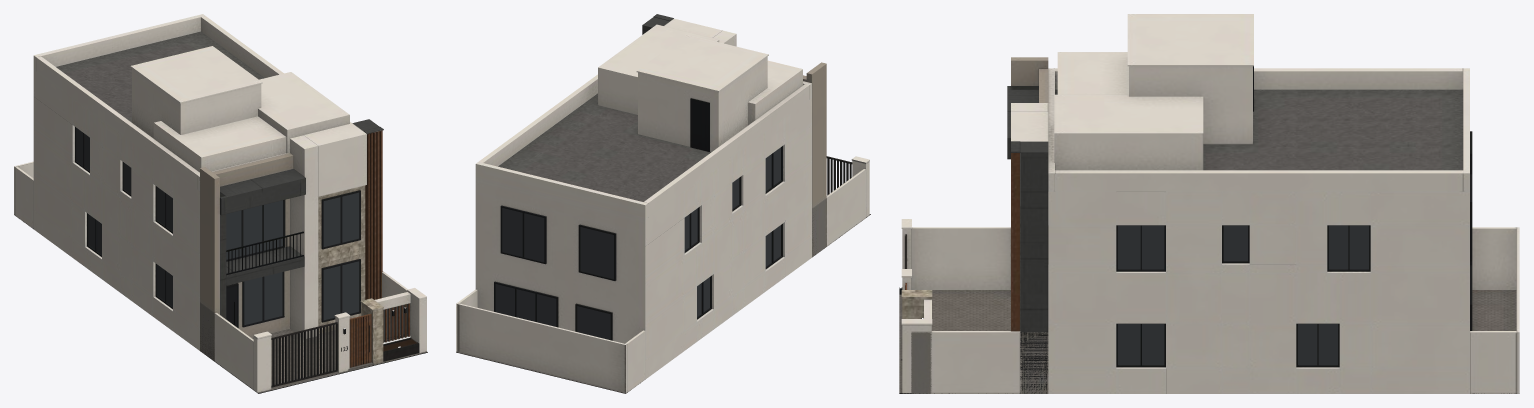
Rendered from house_A.glb.
3 renders of one model, left to right at view 1: azimuth 30°, elevation 25°; view 2: azimuth 150°, elevation 25°; view 3: azimuth 270°, elevation 25°, orthographic. The views are drawn at different scales.
Visible parts, largest first — view 1: body, glass; view 2: body, glass; view 3: body, glass.
Boxes of the visible parts, left/top/right/bottom form: body: left=14, top=14, right=427, bottom=393; glass: left=76, top=128, right=359, bottom=324; body: left=456, top=14, right=870, bottom=393; glass: left=495, top=147, right=780, bottom=339; body: left=899, top=14, right=1519, bottom=393; glass: left=1118, top=225, right=1368, bottom=364.
Size of the model in its own units: 8 by 10.06 by 20.
3 materials, 1 textured.
